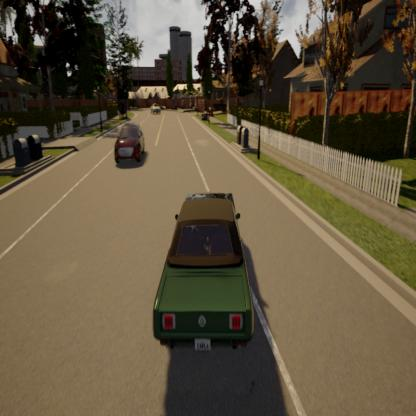Cars: (145, 169, 256, 367), (102, 105, 150, 176)
